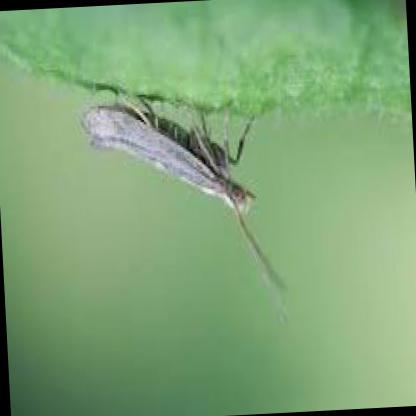plutella: (74, 92, 292, 295)
